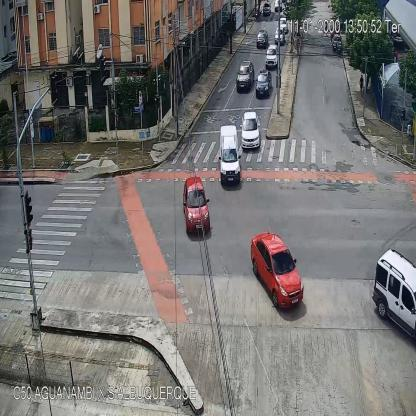bicycle: (321, 21, 329, 36)
car: (250, 230, 303, 310), (372, 247, 416, 339), (183, 178, 211, 238), (219, 125, 242, 183), (241, 111, 261, 150), (236, 63, 254, 90), (256, 71, 272, 97), (265, 44, 277, 70), (256, 26, 267, 48), (275, 27, 286, 46), (332, 35, 342, 50), (278, 16, 287, 31), (264, 2, 272, 15)
motorbike: (336, 40, 339, 52)
person: (359, 74, 364, 94), (295, 38, 300, 56), (255, 7, 259, 22), (227, 30, 230, 46)
